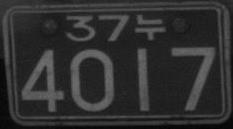0: (68, 48, 115, 112)
1: (124, 48, 162, 111)
3: (64, 13, 95, 42)
4: (20, 49, 65, 112)
7: (171, 45, 214, 112), (97, 13, 129, 41)
누: (134, 13, 165, 40)
